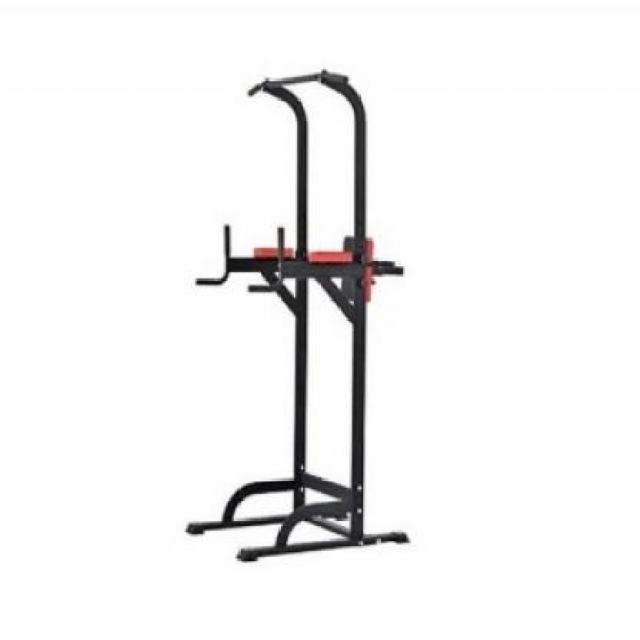chinning dipping: (189, 71, 409, 563)
